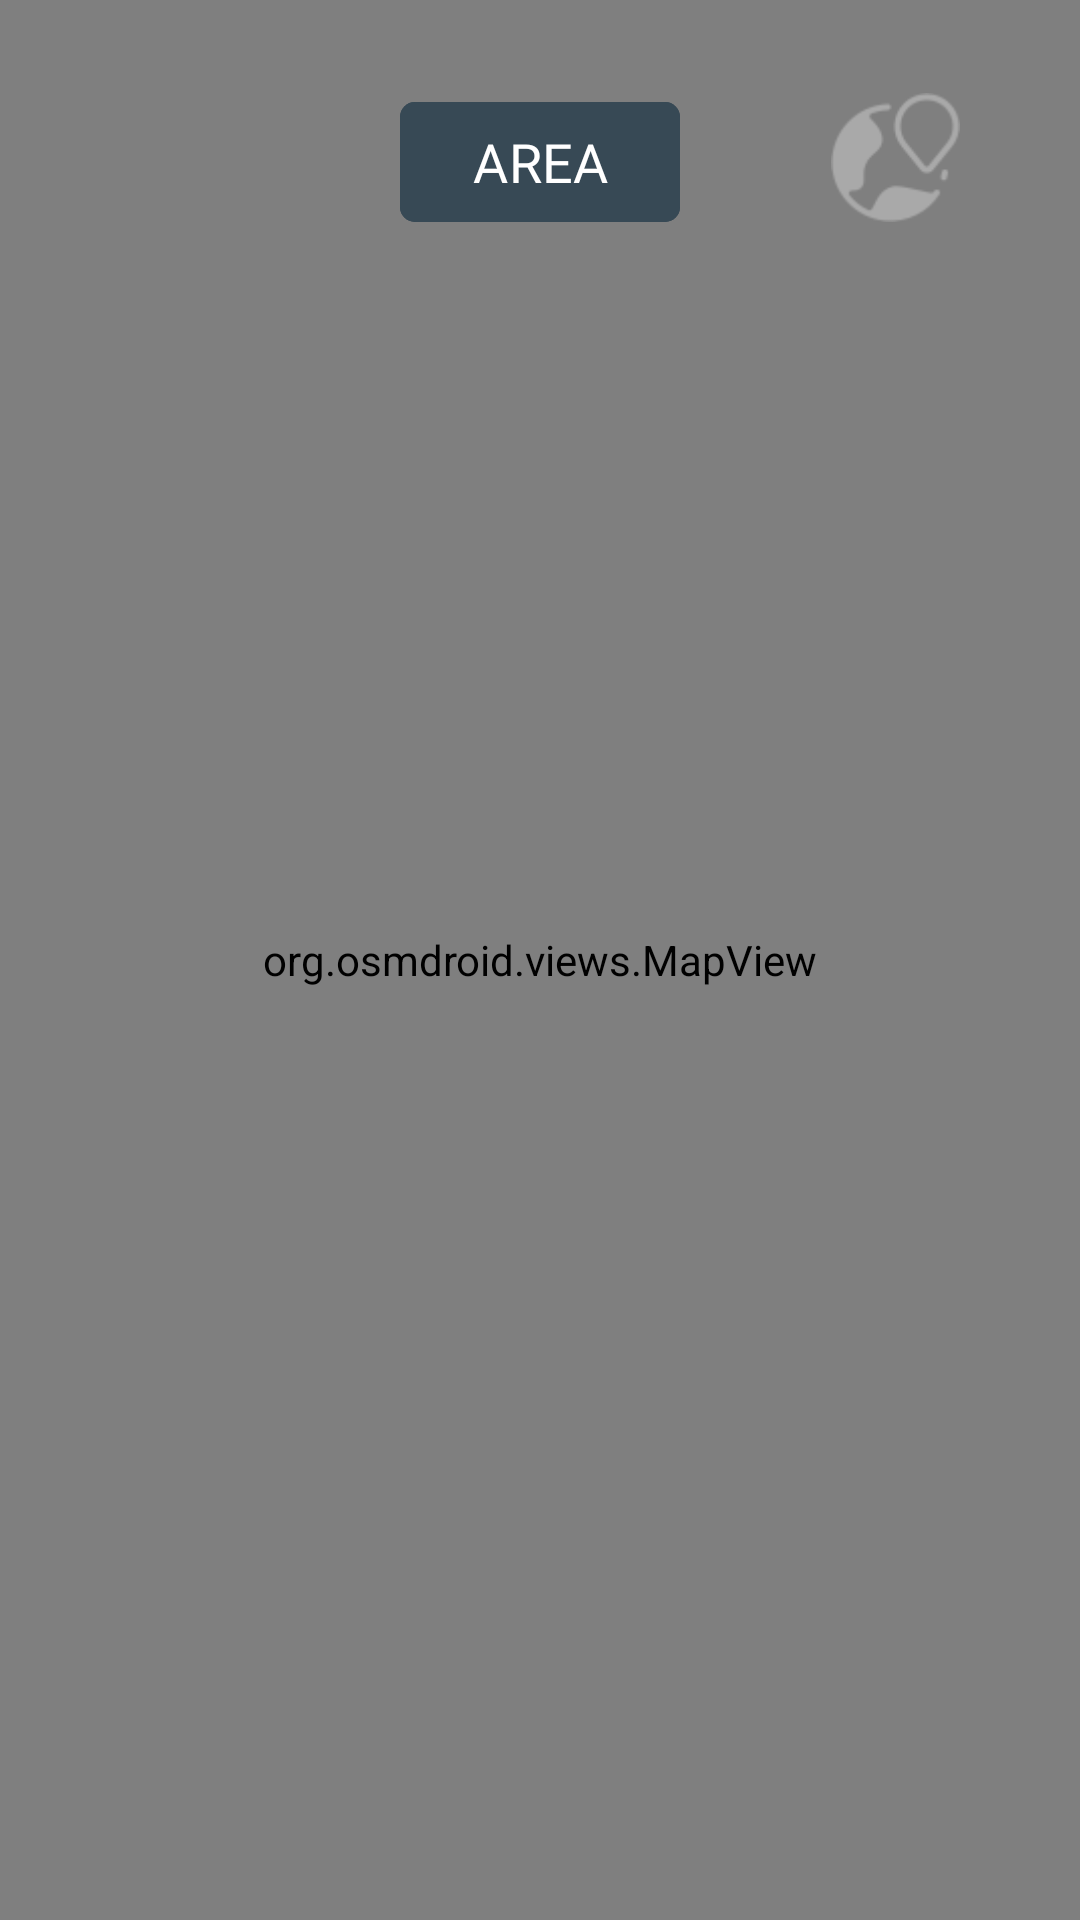

Where to tap for icons on this 1080×1920 app screen, as point (x, y):
mylocation: point (895, 157)
